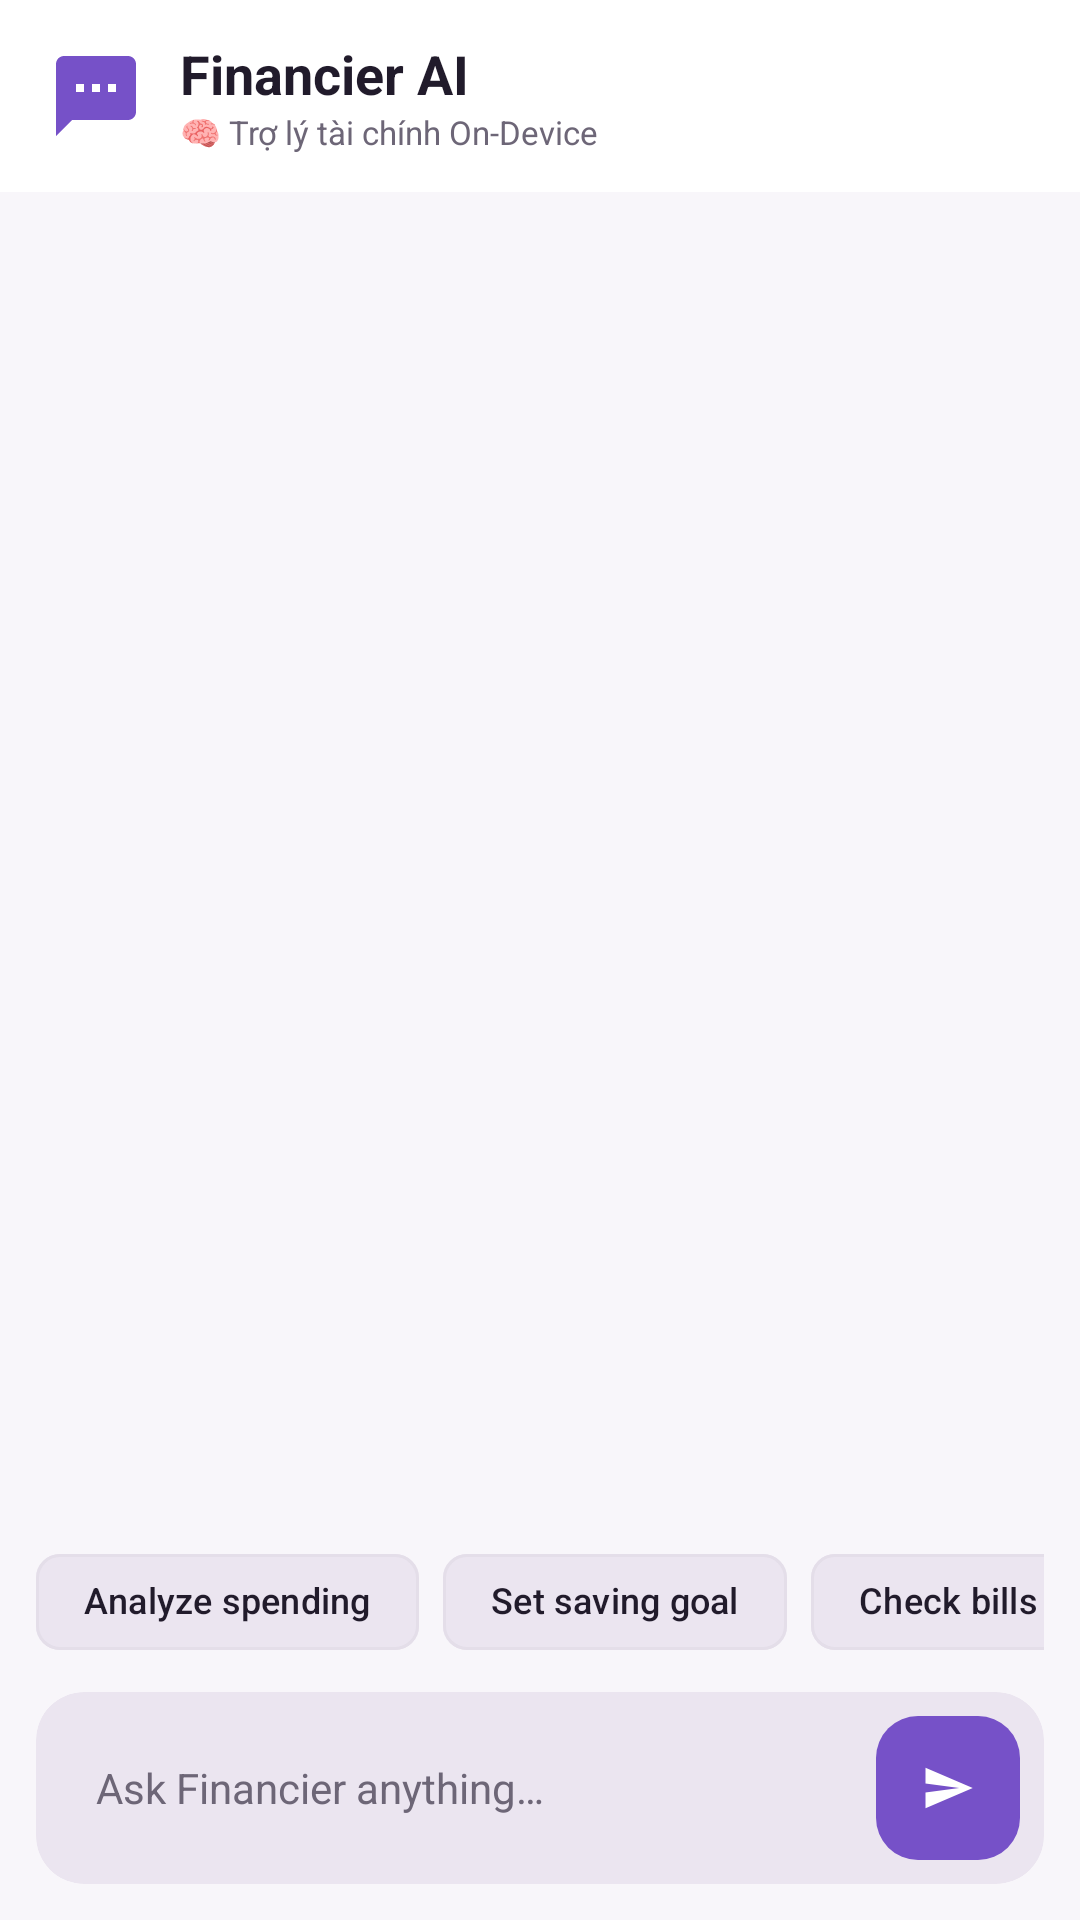

Where to tap for icons on this 1080x1920 app screen, as (x=x, y=y):
Send message: (x=948, y=1788)
